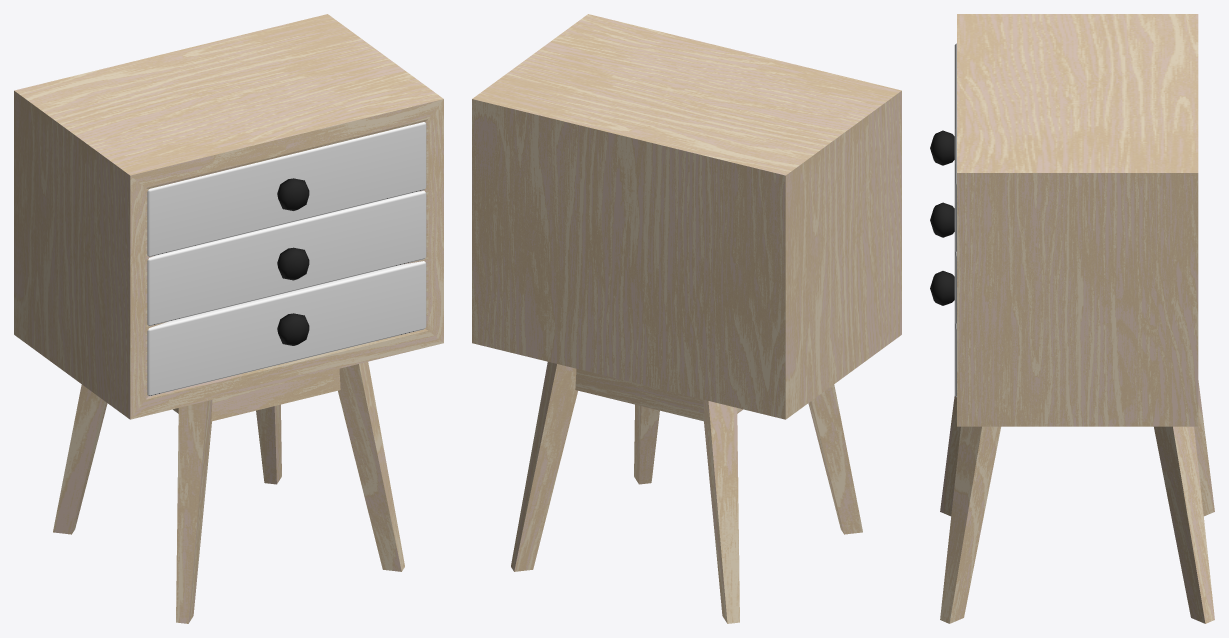
The model's file is dresser_021.fbx.
3 renders of one model, left to right at view 1: azimuth 30°, elevation 25°; view 2: azimuth 150°, elevation 25°; view 3: azimuth 270°, elevation 25°, orthographic. The views are drawn at different scales.
Visible parts, largest first — view 1: dresser_021; view 2: dresser_021; view 3: dresser_021.
Boxes of the visible parts, box(x1,y1,x2,y2) form: dresser_021: box(14, 14, 443, 623); dresser_021: box(472, 14, 901, 623); dresser_021: box(930, 14, 1214, 623).
Size of the model in its own units: 70.88 by 53.67 by 98.16.
